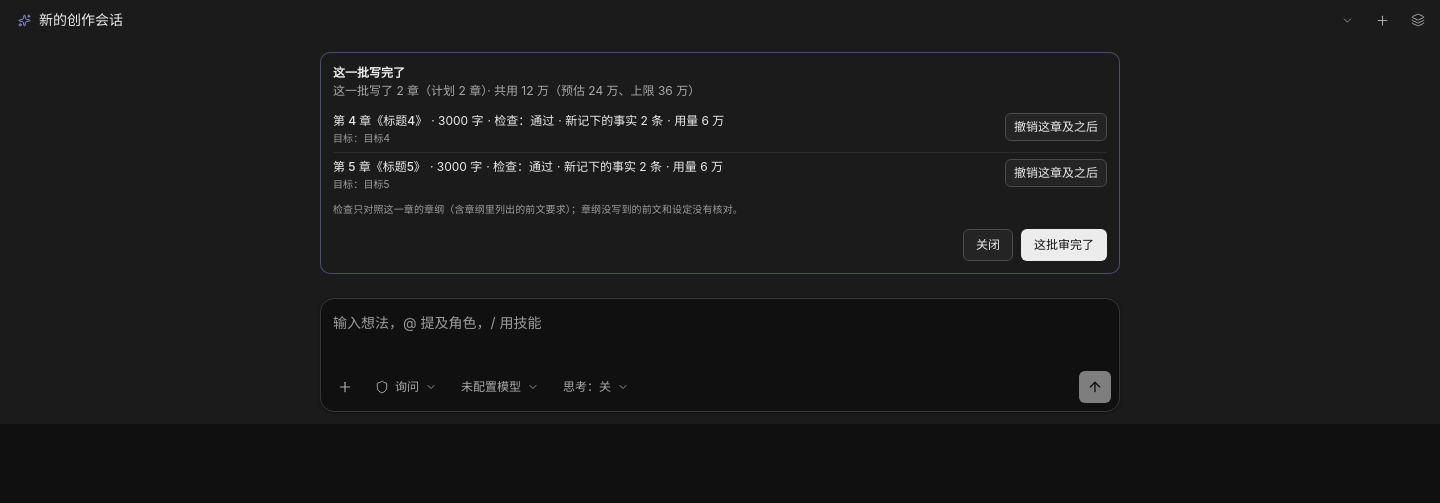
Test: 确认以后再出计划时变成不能撤了：原因放在卡上，什么都不删
The width and height of the screenshot is (1440, 503).
Click the button "撤销这章及之后" in the row of "目标4" at (1056, 127), box [1005,113,1107,141]
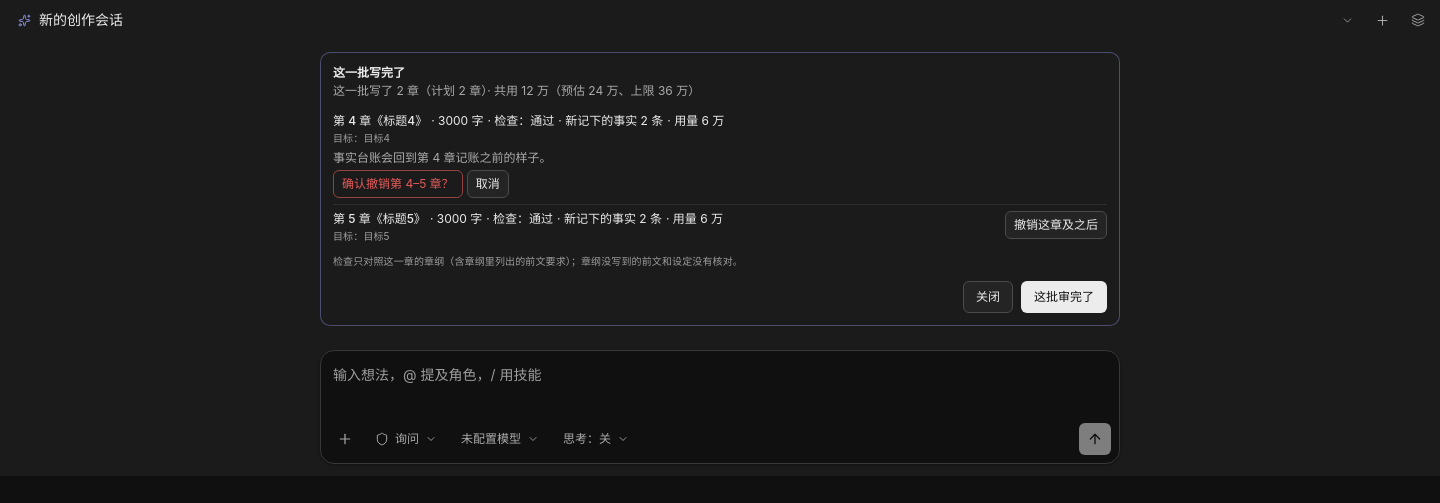
Click the button "确认撤销第 4–5 章？" at (398, 184), box [333,170,463,198]
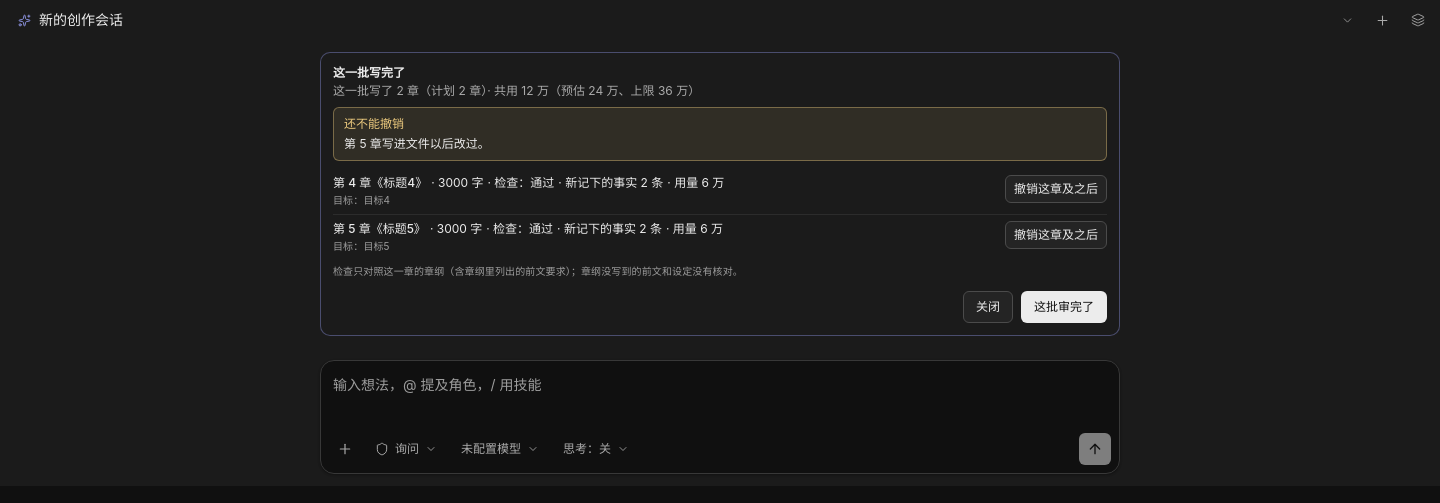
Expected: the list item with test id "write-batch-undo-blocker" reads "第 5 章写进文件以后改过。", [344,136,490,151]
